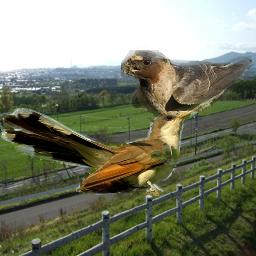Cuckoo: (0, 108, 198, 196)
Swallow: (121, 50, 254, 122)
